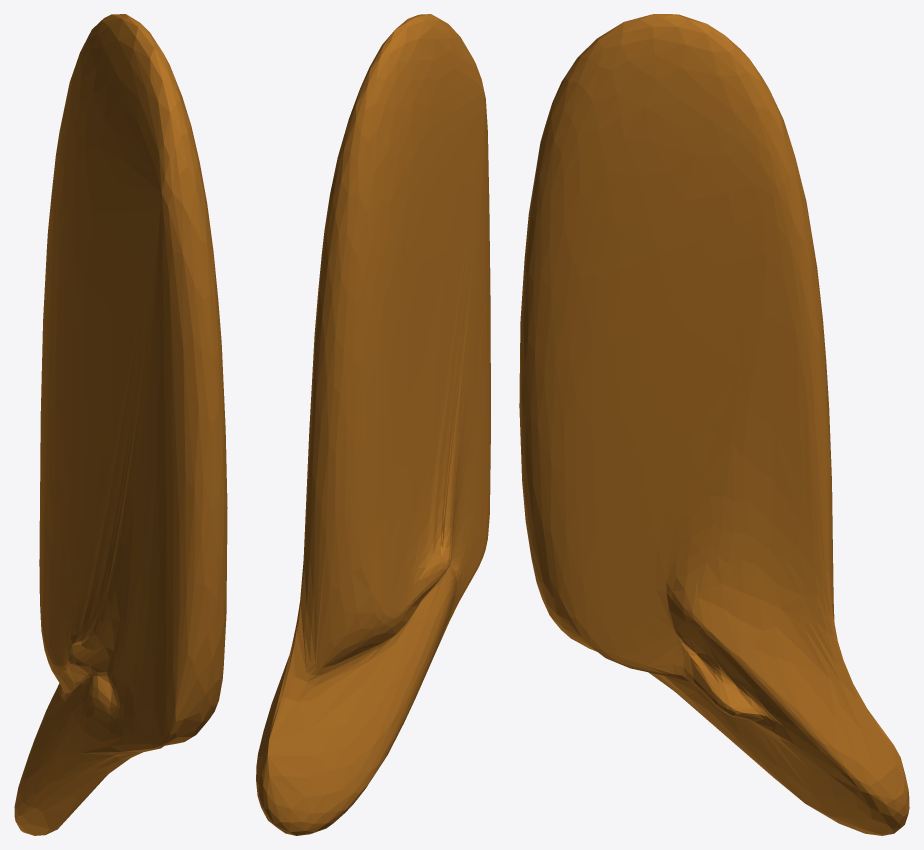
3 renders of one model, left to right at view 1: azimuth 30°, elevation 25°; view 2: azimuth 150°, elevation 25°; view 3: azimuth 270°, elevation 25°, orthographic. The views are drawn at different scales.
Parts seen in each view (by area): view 1: 691_Cube.2776; view 2: 691_Cube.2776; view 3: 691_Cube.2776.
Part boxes in pixels (x1,y1,x2,y2): 691_Cube.2776: (14,14,227,835); 691_Cube.2776: (256,14,490,835); 691_Cube.2776: (519,14,909,835).
Bounding box in the file's own units: 2.22 × 14.62 × 6.35.
